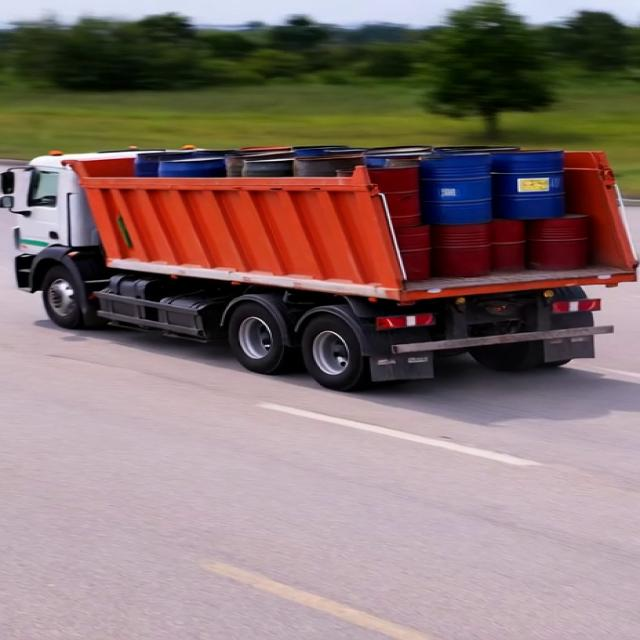trailer: (69, 138, 613, 197)
truck: (0, 118, 637, 369)
